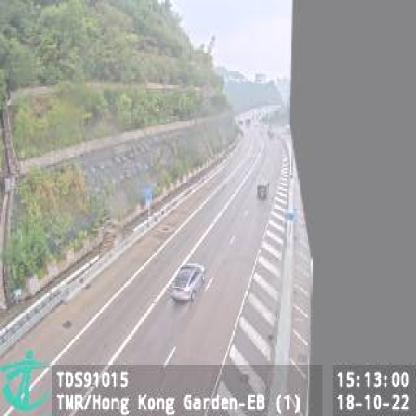Car: (168, 261, 206, 302), (256, 176, 272, 199)
